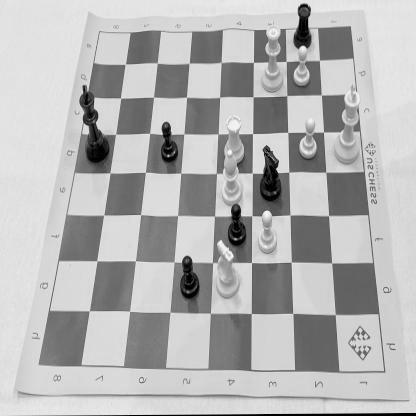black-king: (74, 80, 112, 166)
black-knight: (258, 142, 284, 206)
black-pawn: (176, 250, 202, 301), (158, 117, 181, 165), (226, 200, 249, 247)
black-rook: (292, 0, 312, 53)
white-bishop: (216, 148, 246, 208)
white-king: (330, 80, 364, 169)
white-knight: (212, 236, 242, 304)
white-pawn: (290, 42, 314, 90), (296, 115, 320, 162), (256, 210, 278, 260)
white-queen: (258, 21, 286, 96)
white-rook: (222, 112, 247, 168)
